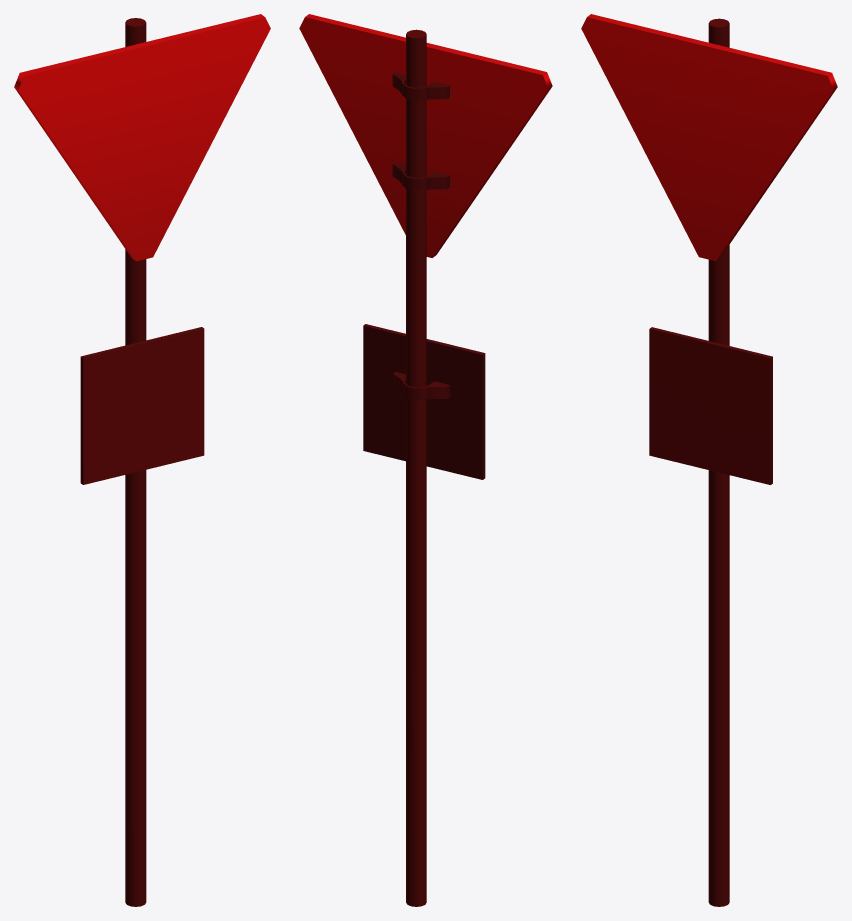
File: Roadsign003.glb
3 views of the same model, side by side, from view 1: azimuth 30°, elevation 25°; view 2: azimuth 150°, elevation 25°; view 3: azimuth 330°, elevation 25° (orthographic).
Parts seen in each view (by area): view 1: Roadsign003; view 2: Roadsign003; view 3: Roadsign003.
Boxes of the visible parts, bbox=[...] form: Roadsign003: bbox=[14, 14, 270, 906]; Roadsign003: bbox=[299, 14, 552, 906]; Roadsign003: bbox=[581, 14, 837, 906].
Bounding box in the file's own units: 3.8 × 12.66 × 0.4364.
